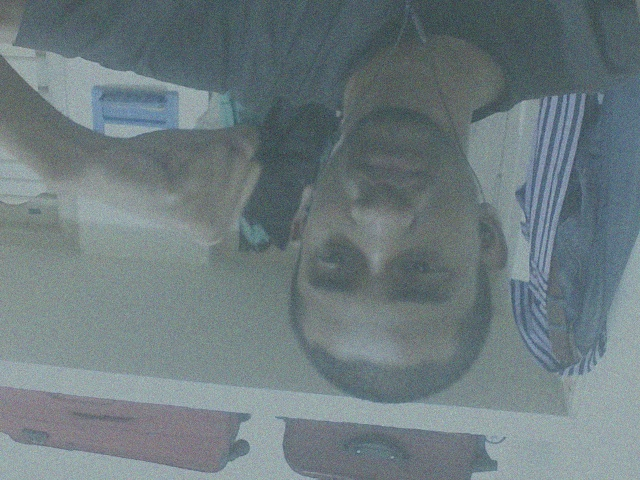hand: (87, 121, 264, 250)
